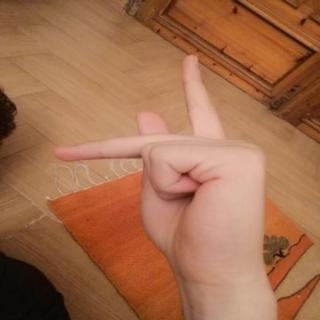DHAA: (42, 44, 290, 298)
